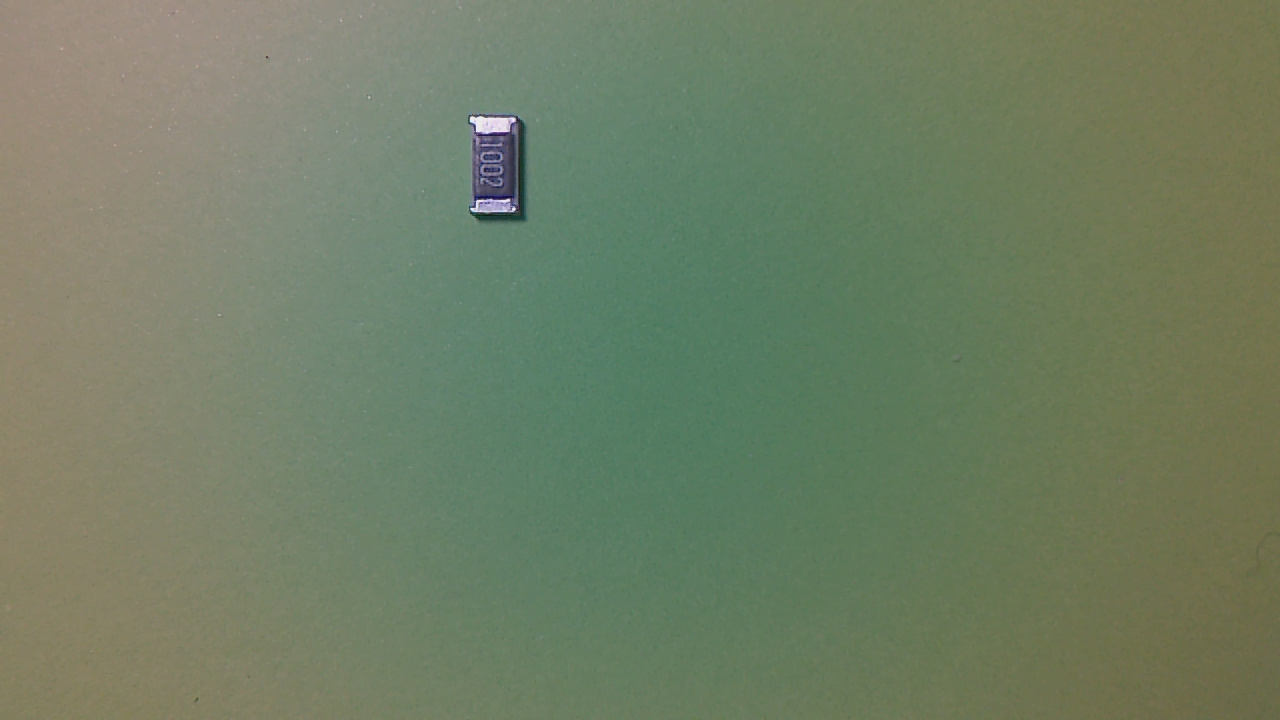Resistor: (468, 113, 534, 234)
